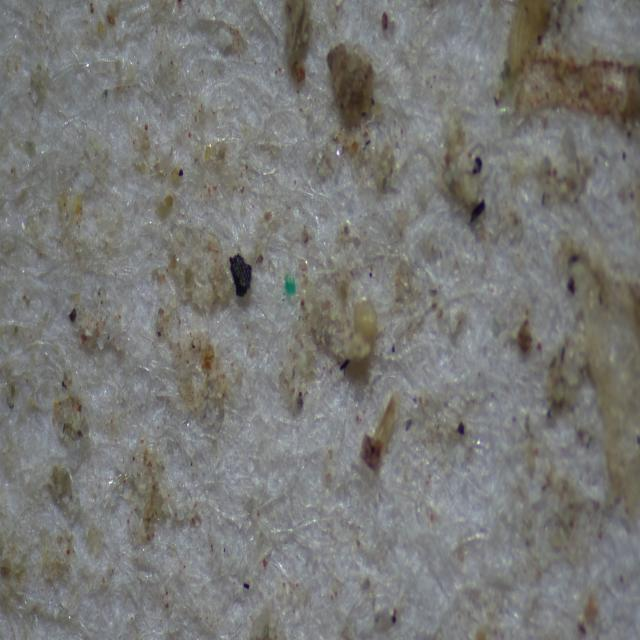microplastic: (279, 268, 305, 298)
